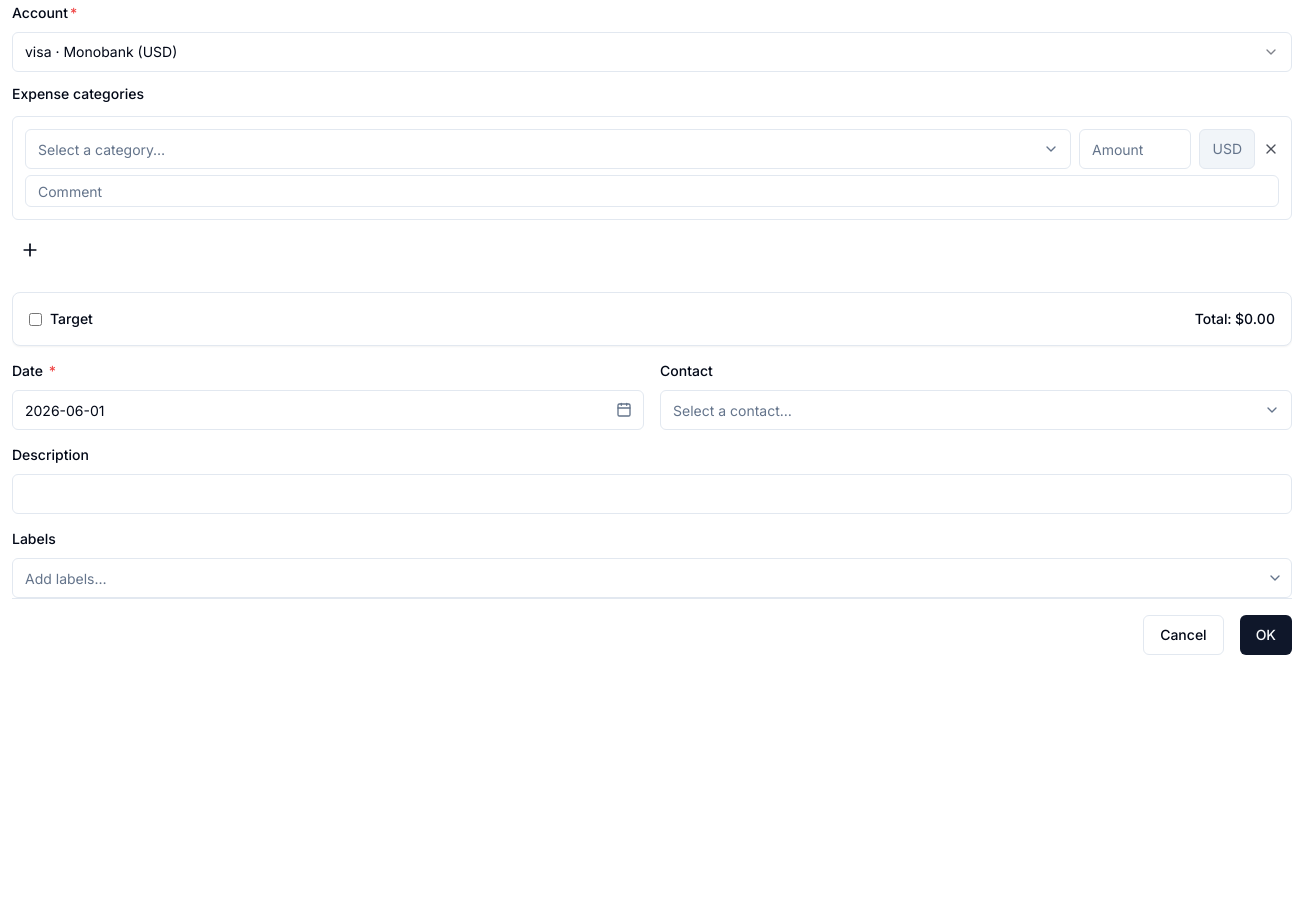
Scenario: IncomeExpenseForm › qualifies same-named accounts with their bank name in the account picker
Click the dropdown named "account": [79, 52] box [12,32,1292,72]
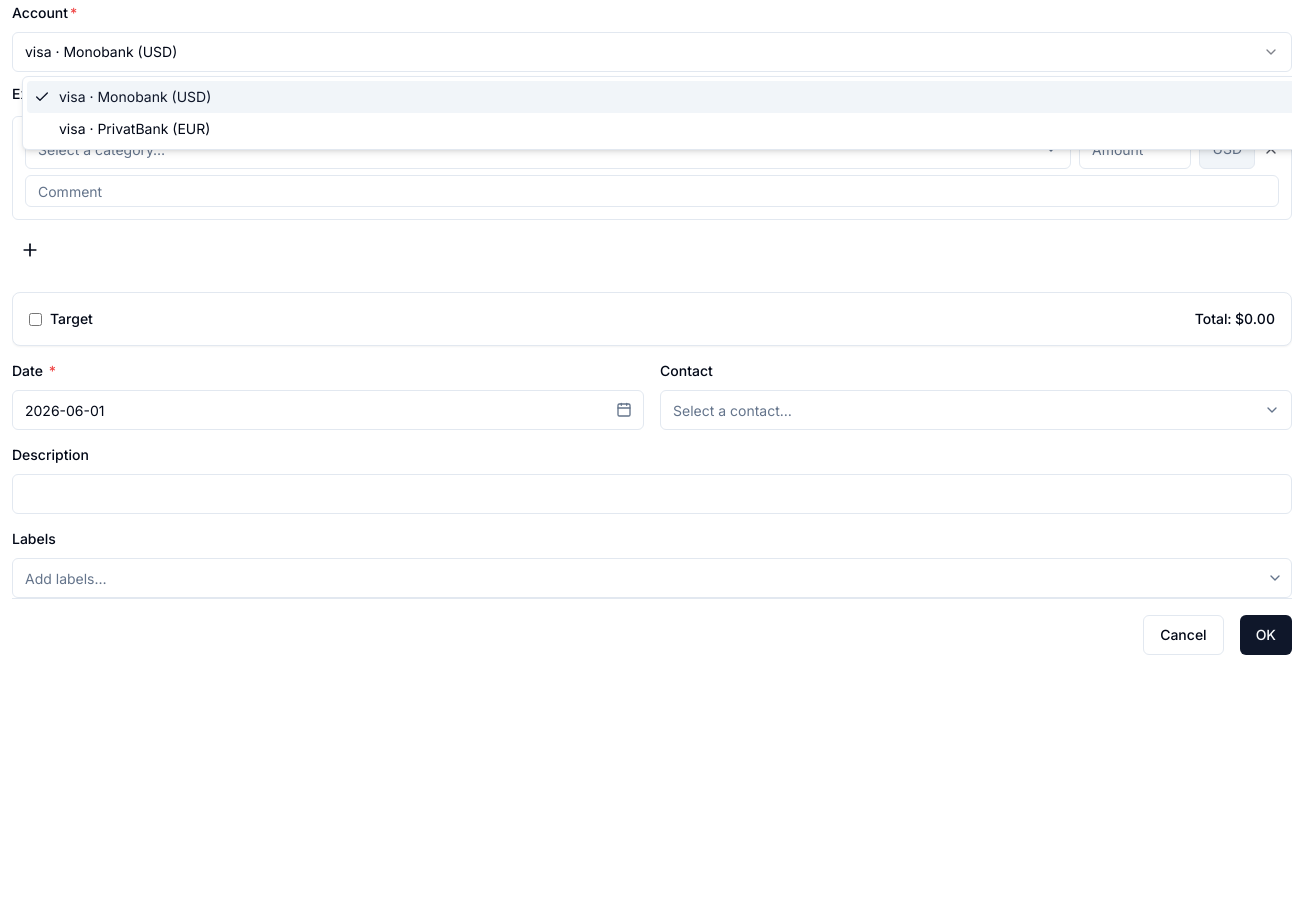
Expected: the option "visa · PrivatBank (EUR)" is shown, [59,120,210,137]
